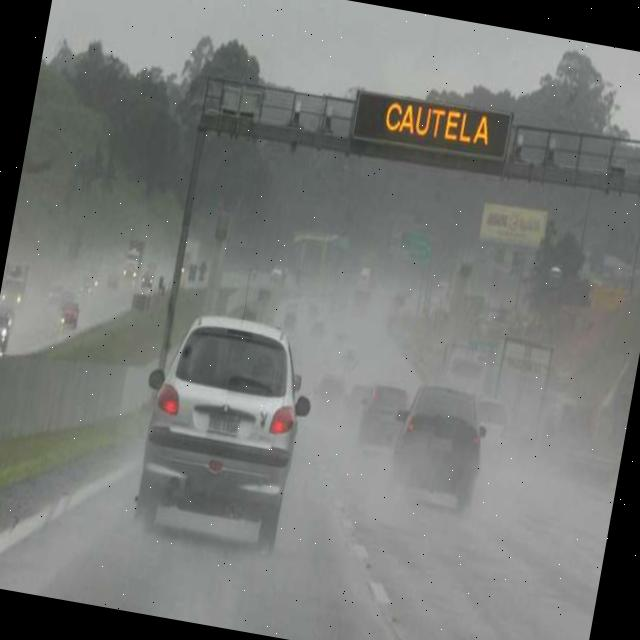bus: (0, 260, 30, 319), (122, 237, 143, 279)
car: (126, 306, 316, 554), (386, 380, 492, 508), (356, 379, 414, 450), (468, 394, 511, 444), (308, 372, 348, 413), (342, 382, 376, 424), (58, 296, 80, 328), (0, 313, 10, 351)
